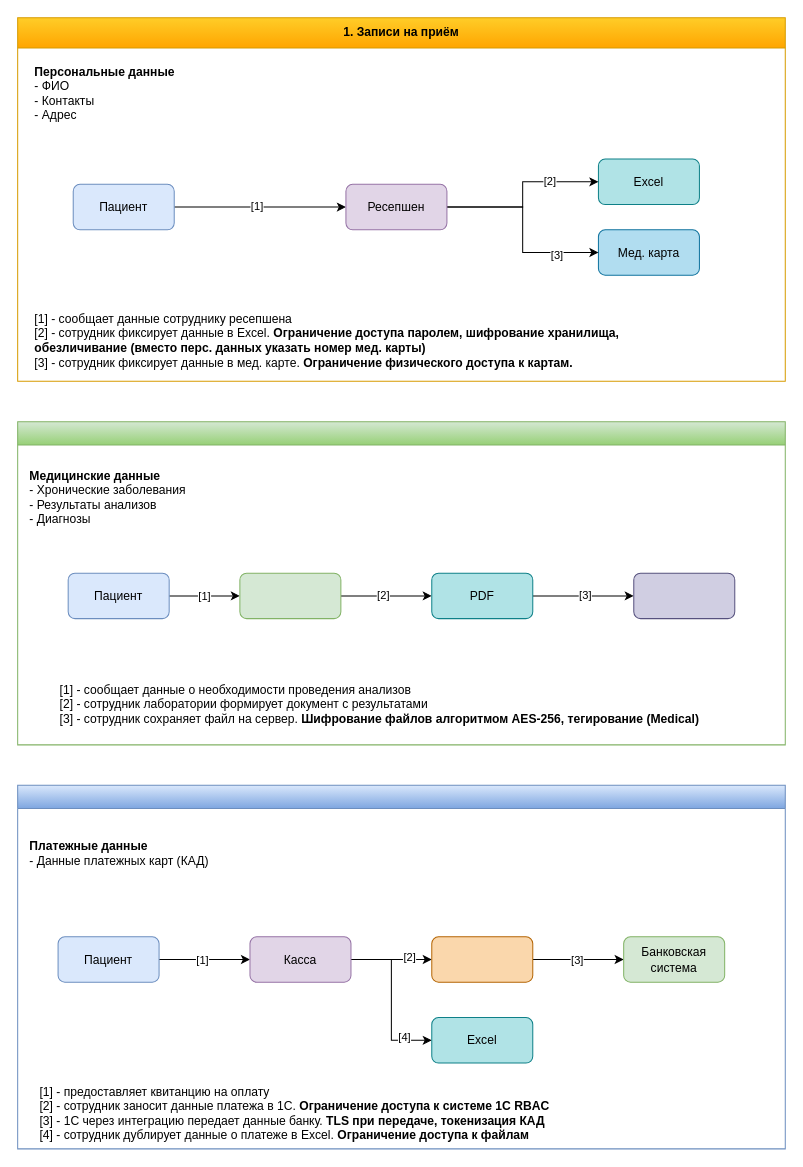
Image size: 803x1167. Some labels were removed from this diagram. The shapes that lost their labels are listed below. From the top down, each one's box as (x1, y1, x2, y2) in pixels, then its label:
(239, 572, 341, 619): Лаборатория
(17, 421, 785, 745): 2. Обработка анализов
(633, 572, 735, 619): Файловый сервер
(17, 784, 785, 1149): 3. Оплата услуг
(431, 936, 533, 982): 1С
